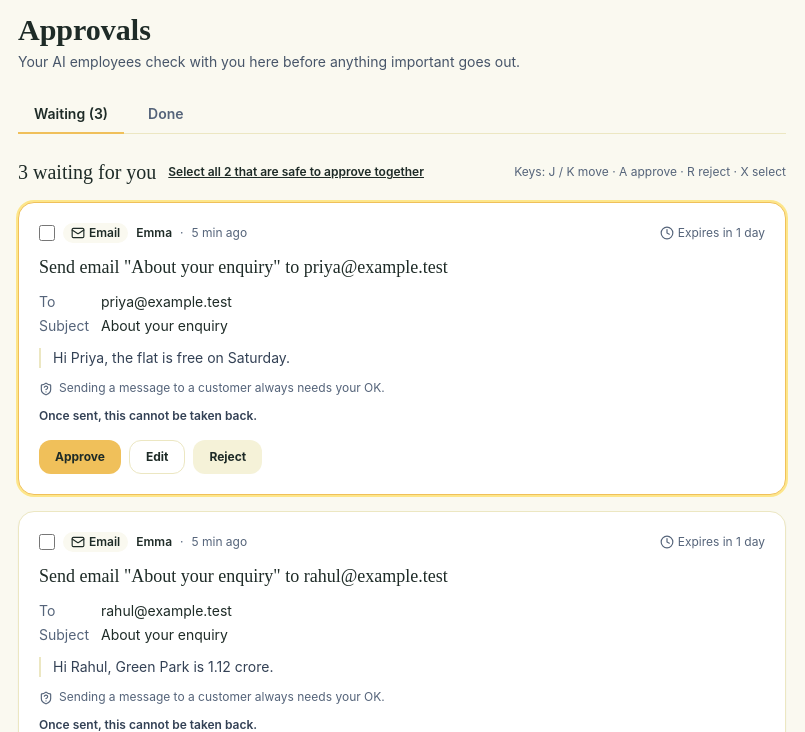
Test case: Approvals page › approves one with one click and says what happened on the card
Expected: the heading "Send email \"About your enquiry\" to priya@example.test" is shown, [39,257,448,277]
Click the button "Approve": (80, 457) [39,440,121,474]
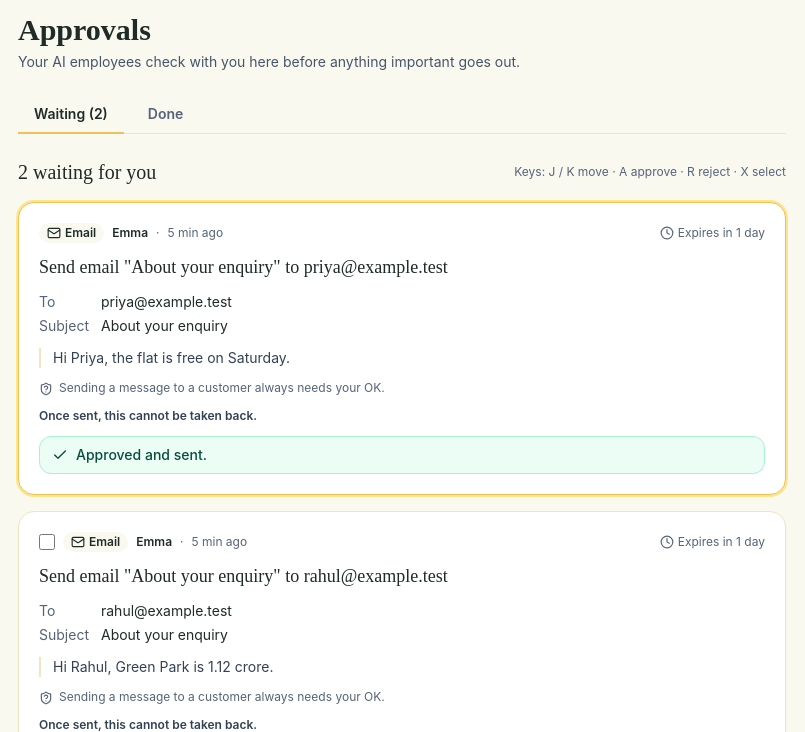
Expected: the text "Approved and sent." is shown, [76,445,207,465]
